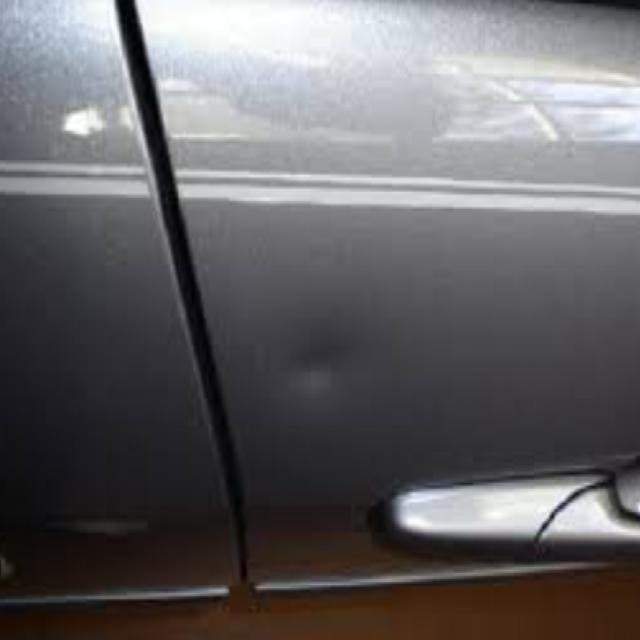dents: (280, 344, 358, 404)
